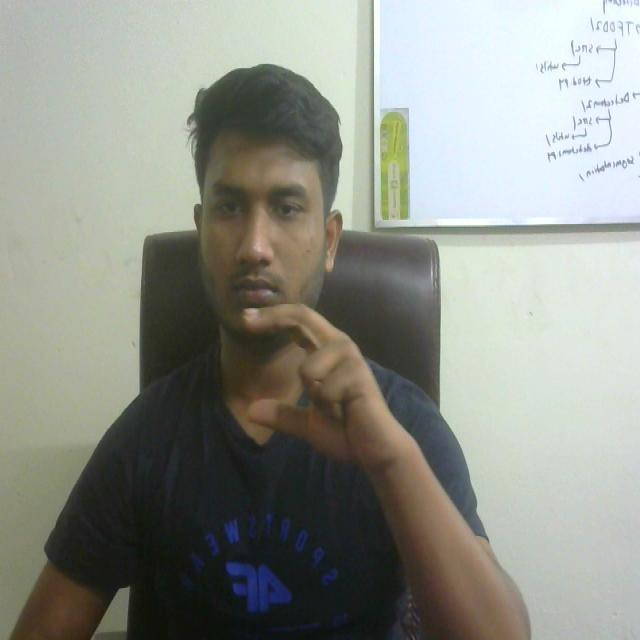D: (229, 289, 392, 484)
